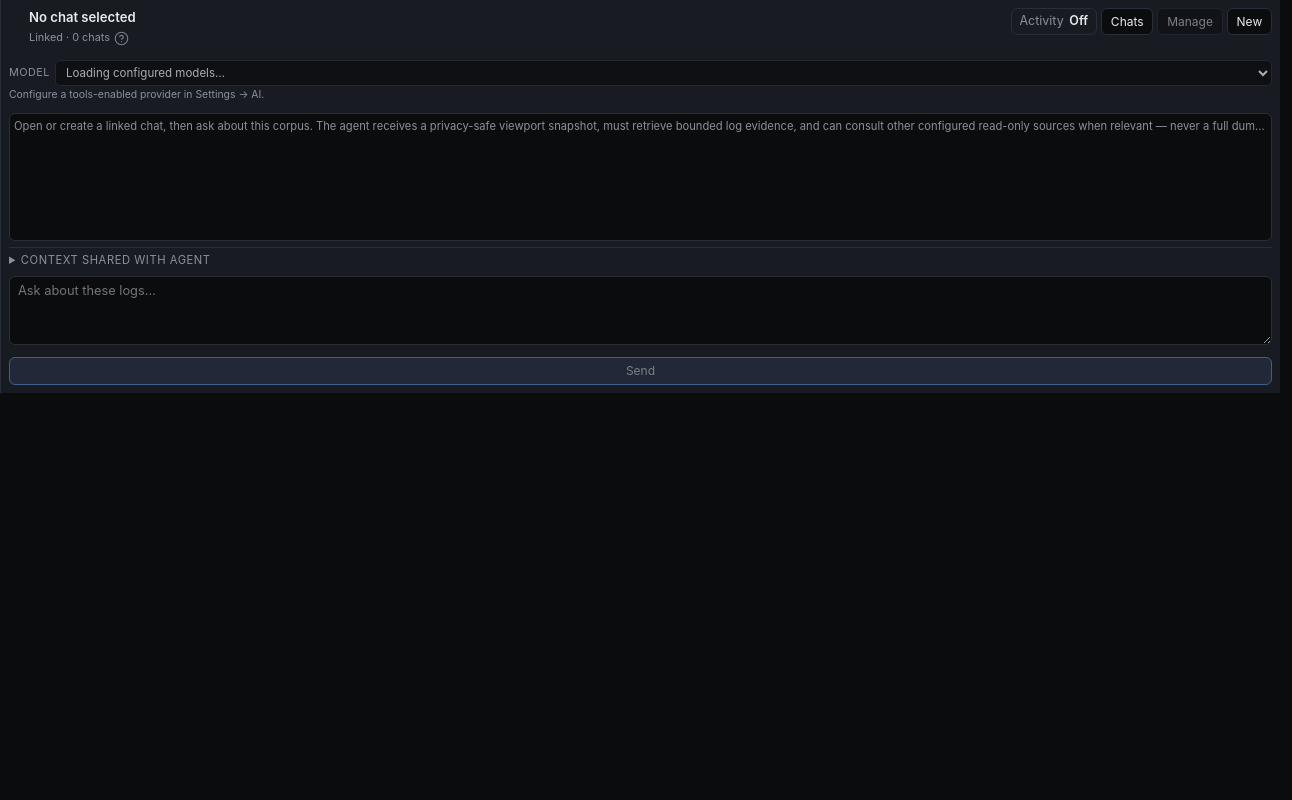
Test: LinkedChatRail › reveals same-corpus log_event citations and fails closed for legacy/malformed (#701/#698)
This screenshot has width=1292, height=800.
Click the button with test id "linked-chat-switcher-toggle". click: (1127, 22)
box: [1101,8,1153,35]
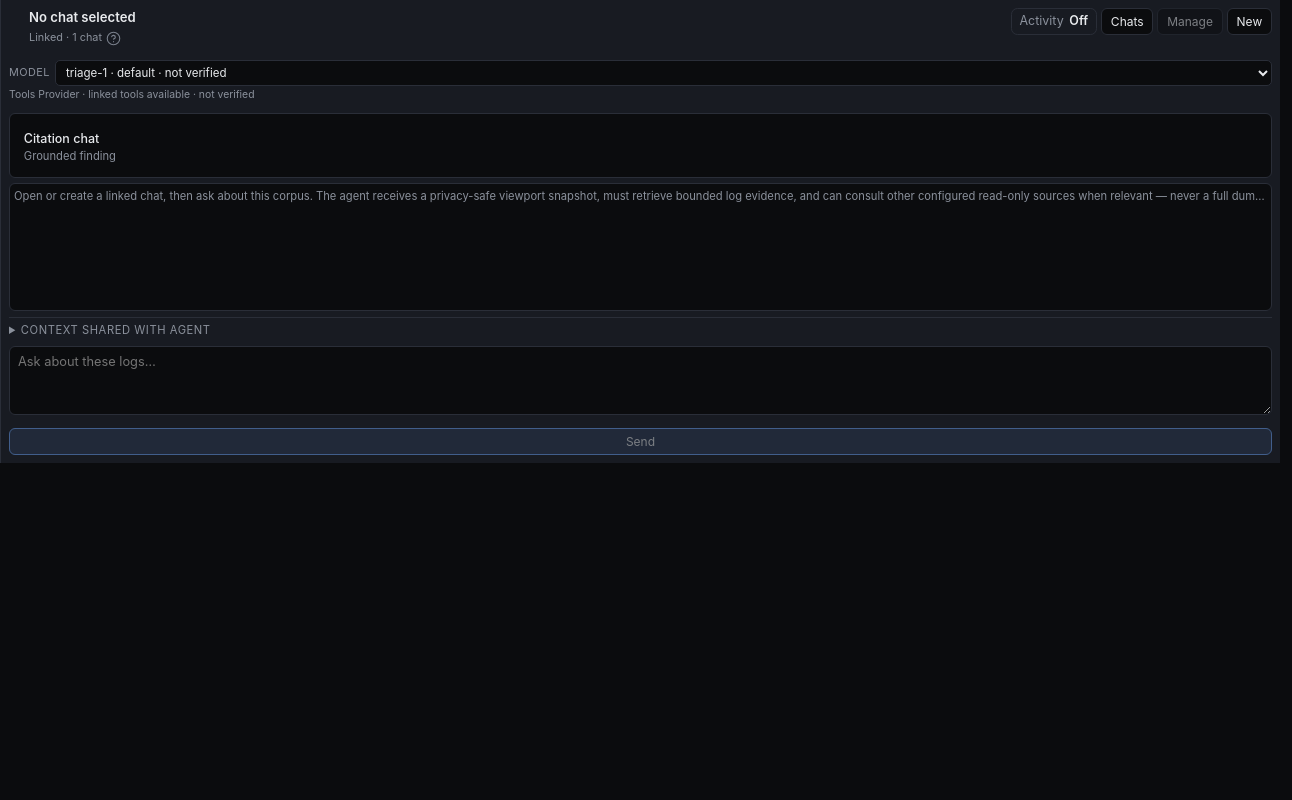
Click the text "Citation chat". click: (62, 139)
box: [24,131,99,146]
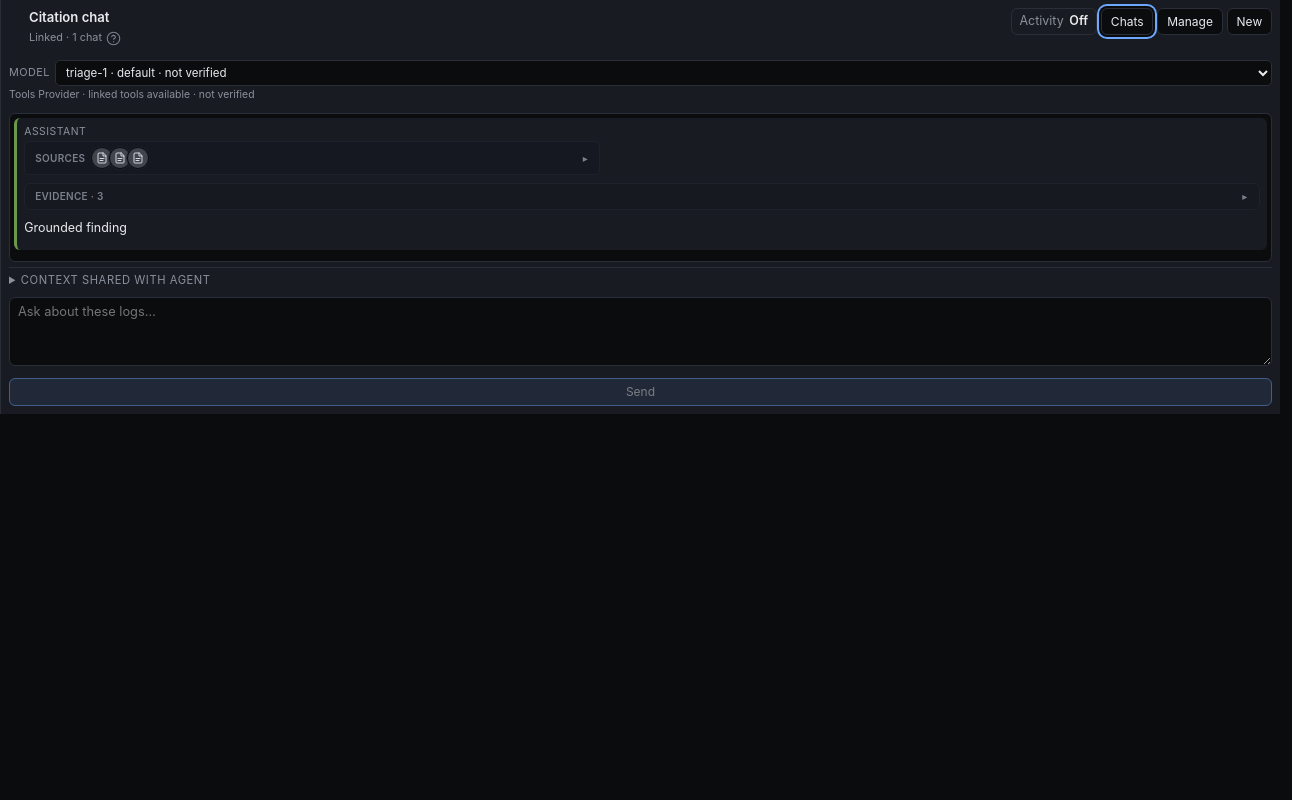
Expected: the element with test id "linked-chat-msg-assistant" is shown, [14,118,1267,250]
Note: Open Sources and activate log_event via host exact-nav (same path as main chat).
Click the button "Sources ▸". click: (60, 158)
box: [25,142,599,174]
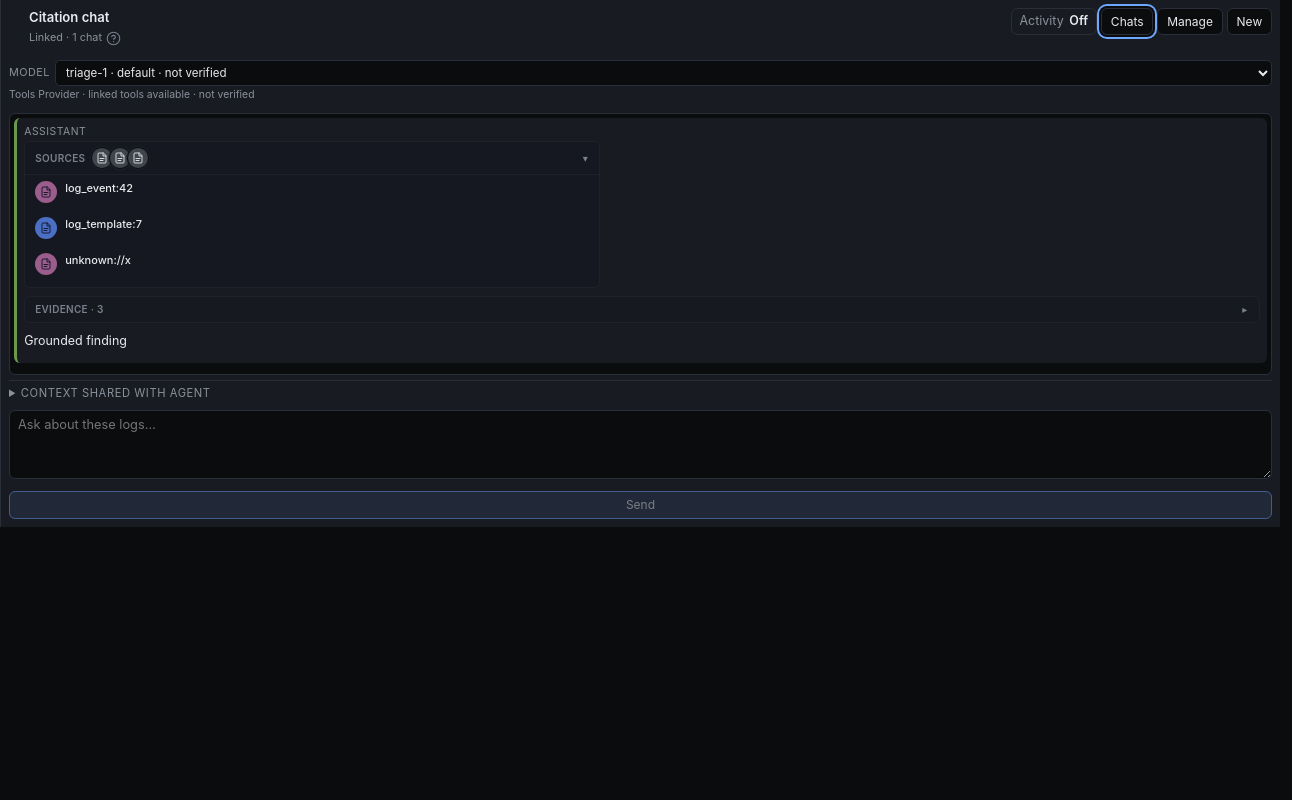
Click the button "log_event:42". click: (99, 188)
box: [65,181,589,196]
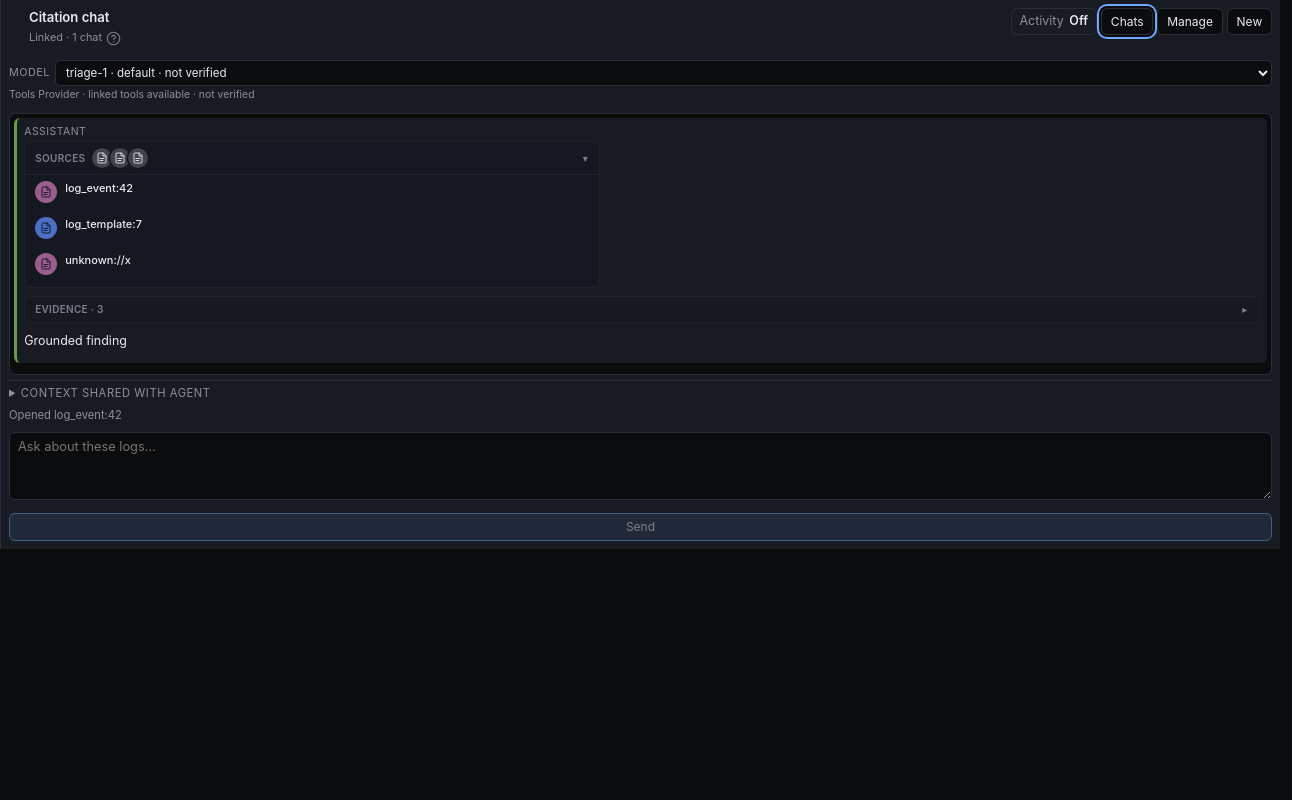
Expected: the text "Opened log_event:42" is shown, [9,407,122,424]
Note: Legacy unbound fails closed — no substitute.
Click the button "log_template:7". click: (104, 224)
box: [65,217,589,232]
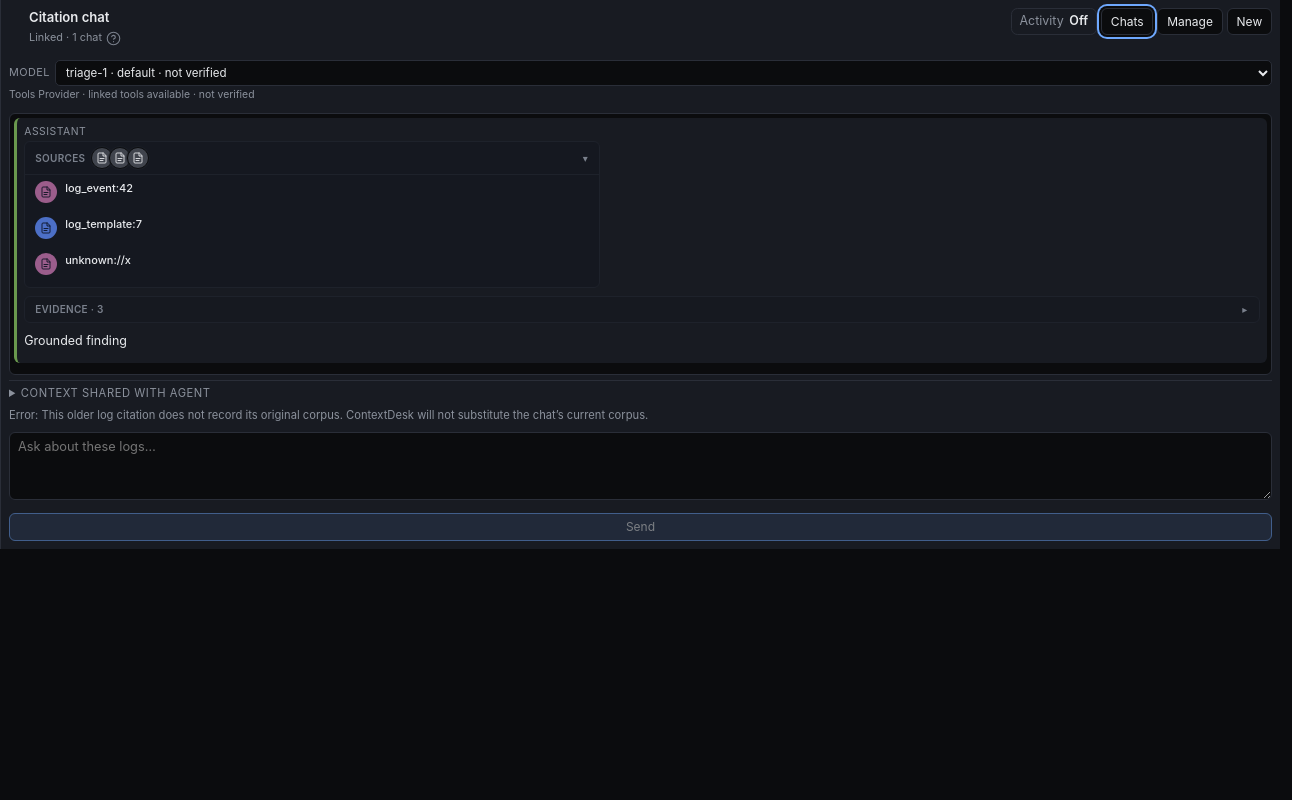
Expected: the text "does not record its original corpus" is shown, [9,408,648,422]
Note: Malformed scheme never becomes file I/O.
Click the button "unknown://x". click: (98, 260)
box: [65,253,589,268]
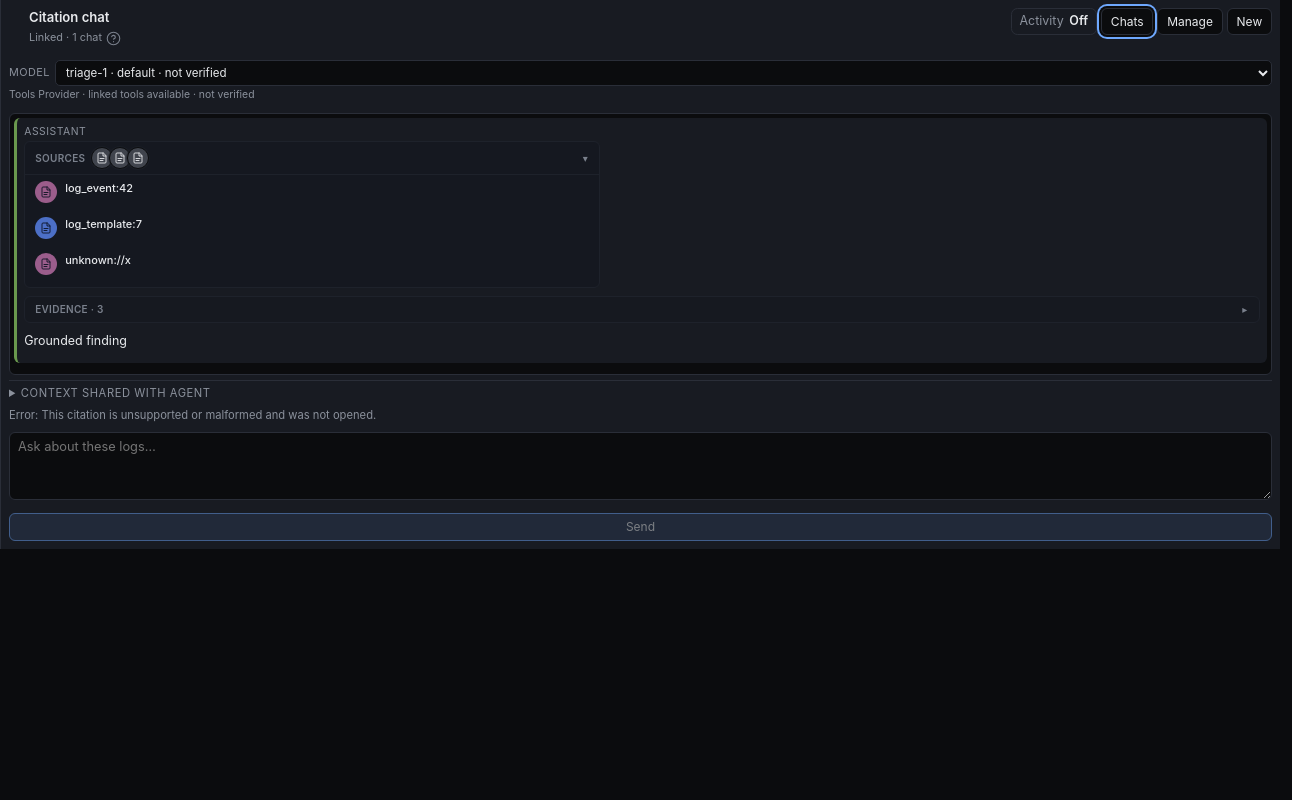
Expected: the text "Error: This citation is unsupported or malformed and was not opened." is shown, [9,407,376,424]
